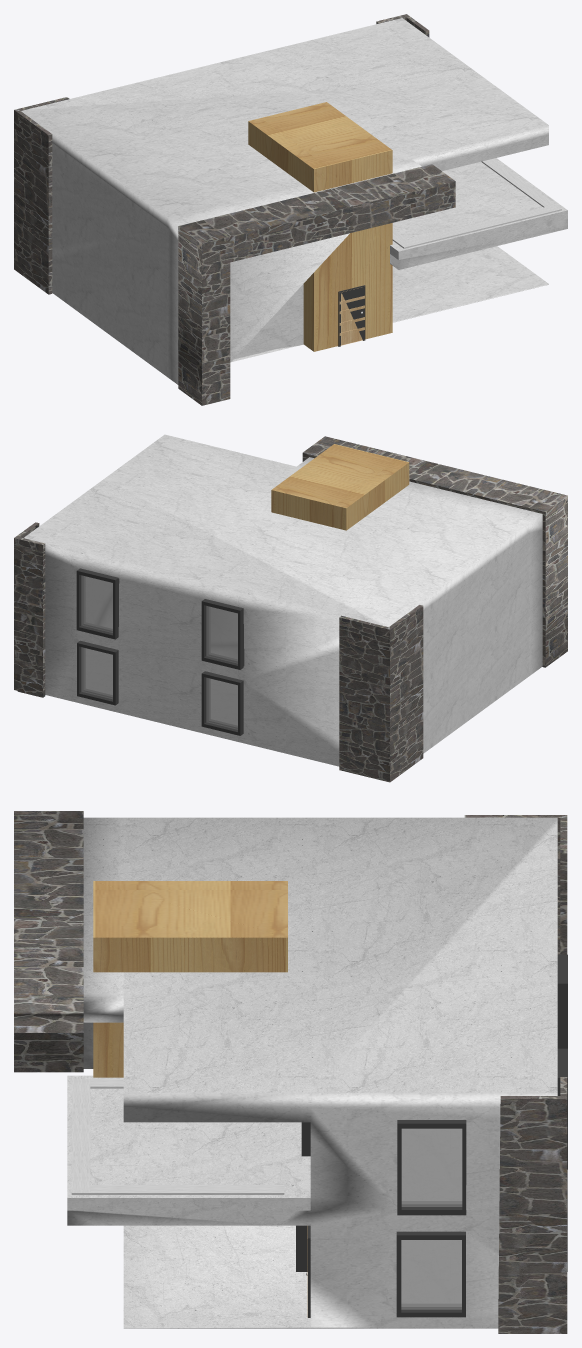
The model's file is CASA.2.fbx.
The picture shows the model from 3 angles, top to bottom: view 1: azimuth 30°, elevation 25°; view 2: azimuth 150°, elevation 25°; view 3: azimuth 270°, elevation 25°; orthographic projection. The views are drawn at different scales.
Visible parts, largest first — view 1: pasted__CASA, pasted__pasted__extra, pasted__pCube2, pasted__pCube143, pasted__porta22, pasted__porta18, pasted__pCube144; view 2: pasted__CASA, pasted__pasted__extra, pasted__pCube2, pasted__pCube141, pasted__pCube139, pasted__pCube142, pasted__pCube140; view 3: pasted__CASA, pasted__pasted__extra, pasted__pCube2, pasted__pCube6, pasted__pCube7, pasted__pCube143, pasted__pCube144, pasted__pCube141.
Part boxes in pixels (x1=…): pasted__CASA: x1=21, y1=18, x2=567, y2=384; pasted__pasted__extra: x1=14, y1=14, x2=455, y2=405; pasted__pCube2: x1=248, y1=102, x2=392, y2=351; pasted__pCube143: x1=397, y1=204, x2=561, y2=248; pasted__porta22: x1=339, y1=287, x2=364, y2=345; pasted__porta18: x1=338, y1=285, x2=365, y2=346; pasted__pCube144: x1=481, y1=159, x2=555, y2=207; pasted__CASA: x1=24, y1=434, x2=542, y2=766; pasted__pasted__extra: x1=14, y1=436, x2=567, y2=782; pasted__pCube2: x1=271, y1=444, x2=409, y2=530; pasted__pCube141: x1=201, y1=599, x2=244, y2=669; pasted__pCube139: x1=76, y1=568, x2=119, y2=639; pasted__pCube142: x1=201, y1=671, x2=243, y2=735; pasted__pCube140: x1=77, y1=640, x2=118, y2=705; pasted__CASA: x1=67, y1=817, x2=557, y2=1328; pasted__pasted__extra: x1=14, y1=811, x2=567, y2=1333; pasted__pCube2: x1=93, y1=881, x2=287, y2=1077; pasted__pCube6: x1=397, y1=1120, x2=466, y2=1215; pasted__pCube7: x1=396, y1=1231, x2=465, y2=1317; pasted__pCube143: x1=71, y1=1079, x2=90, y2=1194; pasted__pCube144: x1=90, y1=1185, x2=284, y2=1194; pasted__pCube141: x1=557, y1=954, x2=567, y2=1048.
Bounding box in the file's own units: 1547 × 689 × 1276.
